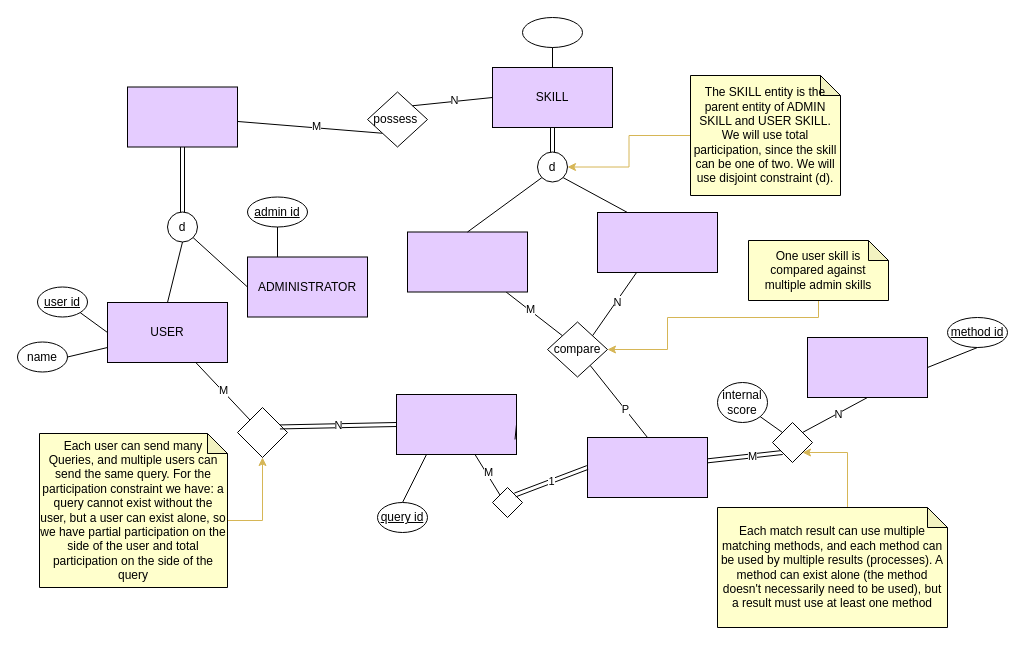
The diagram is 1025 pixels wide and 645 high, and some of its shapes have lost their labels. Each missing label, with the centre of its shape:
"ADMIN SKILL" belongs at (467,261).
"MATCH RESULT" belongs at (647,467).
"MATCHING METHOD" belongs at (867,367).
"QUERY" belongs at (456,424).
"skill name" belongs at (552,32).
"submit" belongs at (262,432).
"use" belongs at (792,442).
"USER ROLE" belongs at (182,116).
"USER SKILL" belongs at (657,242).
